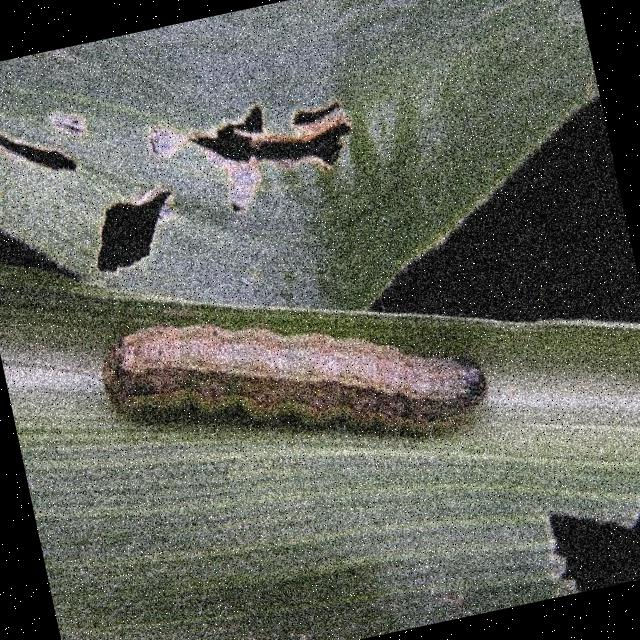worm: (92, 259, 495, 502)
